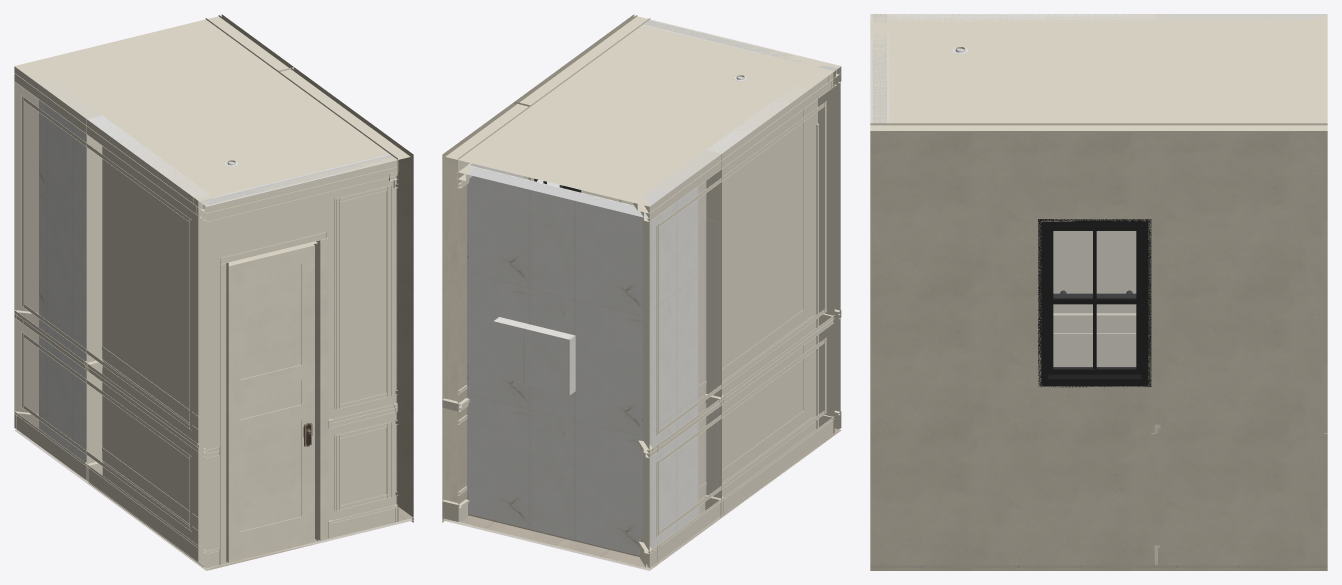
File: loli-bathroom-6a36c5026c7f.glb
The picture shows the model from 3 angles, left to right: view 1: azimuth 30°, elevation 25°; view 2: azimuth 150°, elevation 25°; view 3: azimuth 270°, elevation 25°; orthographic projection. The views are drawn at different scales.
Parts seen in each view (by area): view 1: loli-bathroom-2575515a05775d9e, loli-bathroom-03bdd0165789d12b, loli-bathroom-0e637d2be41161fb, loli-bathroom-eceff908bd344cec, loli-bathroom-5795d1714989146e, loli-bathroom-e64cabe238f3e83a, loli-bathroom-319244b3406409d9, loli-bathroom-4a0606b58a607568, loli-bathroom-a8b6749dbb482e83, loli-bathroom-609bc1027670cc96, loli-bathroom-cc15fd6f291c811e, loli-bathroom-e2dd6cf138a61c96 (+19 smaller); view 2: loli-bathroom-51561c1911f47dcb, loli-bathroom-2575515a05775d9e, loli-bathroom-03bdd0165789d12b, loli-bathroom-5795d1714989146e, loli-bathroom-1c7325212038a6e7, loli-bathroom-e462de76b61e99cf, loli-bathroom-a90dd75c175210c7, loli-bathroom-0e637d2be41161fb, loli-bathroom-e64cabe238f3e83a, loli-bathroom-a8b6749dbb482e83, loli-bathroom-cc15fd6f291c811e, loli-bathroom-92c333610bf7beb4 (+13 smaller); view 3: loli-bathroom-319244b3406409d9, loli-bathroom-e462de76b61e99cf, loli-bathroom-2575515a05775d9e, loli-bathroom-15d1eb52c435a27e, loli-bathroom-03bdd0165789d12b, loli-bathroom-0e637d2be41161fb, loli-bathroom-3b0077416469e01b, loli-bathroom-76fec1e12e3db62a, loli-bathroom-1c7325212038a6e7, loli-bathroom-3b79cb6a0eb20f8c, loli-bathroom-687fd4d2e321b111.
Part boxes in pixels (x1=…): loli-bathroom-2575515a05775d9e: x1=14, y1=15, x2=410, y2=201; loli-bathroom-03bdd0165789d12b: x1=86, y1=115, x2=209, y2=560; loli-bathroom-0e637d2be41161fb: x1=198, y1=154, x2=397, y2=568; loli-bathroom-eceff908bd344cec: x1=228, y1=244, x2=314, y2=560; loli-bathroom-5795d1714989146e: x1=39, y1=100, x2=86, y2=462; loli-bathroom-e64cabe238f3e83a: x1=14, y1=78, x2=38, y2=428; loli-bathroom-319244b3406409d9: x1=278, y1=67, x2=413, y2=521; loli-bathroom-4a0606b58a607568: x1=318, y1=237, x2=328, y2=540; loli-bathroom-a8b6749dbb482e83: x1=14, y1=412, x2=199, y2=562; loli-bathroom-609bc1027670cc96: x1=206, y1=160, x2=398, y2=221; loli-bathroom-cc15fd6f291c811e: x1=14, y1=67, x2=199, y2=216; loli-bathroom-e2dd6cf138a61c96: x1=220, y1=232, x2=326, y2=564; loli-bathroom-51561c1911f47dcb: x1=467, y1=165, x2=642, y2=556; loli-bathroom-2575515a05775d9e: x1=445, y1=15, x2=840, y2=206; loli-bathroom-03bdd0165789d12b: x1=707, y1=86, x2=833, y2=482; loli-bathroom-5795d1714989146e: x1=641, y1=187, x2=698, y2=549; loli-bathroom-1c7325212038a6e7: x1=643, y1=150, x2=721, y2=567; loli-bathroom-e462de76b61e99cf: x1=442, y1=102, x2=530, y2=502; loli-bathroom-a90dd75c175210c7: x1=493, y1=317, x2=575, y2=395; loli-bathroom-0e637d2be41161fb: x1=643, y1=19, x2=840, y2=433; loli-bathroom-e64cabe238f3e83a: x1=458, y1=165, x2=649, y2=548; loli-bathroom-a8b6749dbb482e83: x1=649, y1=417, x2=834, y2=567; loli-bathroom-cc15fd6f291c811e: x1=649, y1=72, x2=834, y2=221; loli-bathroom-92c333610bf7beb4: x1=656, y1=101, x2=826, y2=435; loli-bathroom-319244b3406409d9: x1=870, y1=123, x2=1155, y2=565; loli-bathroom-e462de76b61e99cf: x1=1155, y1=123, x2=1327, y2=565; loli-bathroom-2575515a05775d9e: x1=870, y1=14, x2=1327, y2=132; loli-bathroom-15d1eb52c435a27e: x1=1038, y1=219, x2=1151, y2=387; loli-bathroom-03bdd0165789d12b: x1=889, y1=14, x2=1155, y2=366; loli-bathroom-0e637d2be41161fb: x1=870, y1=14, x2=889, y2=123; loli-bathroom-3b0077416469e01b: x1=870, y1=565, x2=1327, y2=567; loli-bathroom-76fec1e12e3db62a: x1=870, y1=568, x2=1327, y2=570; loli-bathroom-1c7325212038a6e7: x1=1155, y1=14, x2=1326, y2=21; loli-bathroom-3b79cb6a0eb20f8c: x1=1053, y1=313, x2=1136, y2=323; loli-bathroom-687fd4d2e321b111: x1=872, y1=14, x2=883, y2=123.
Size of the model in its own units: 1.8 by 3.05 by 2.88.
Materials: 41 (7 with a texture image).
